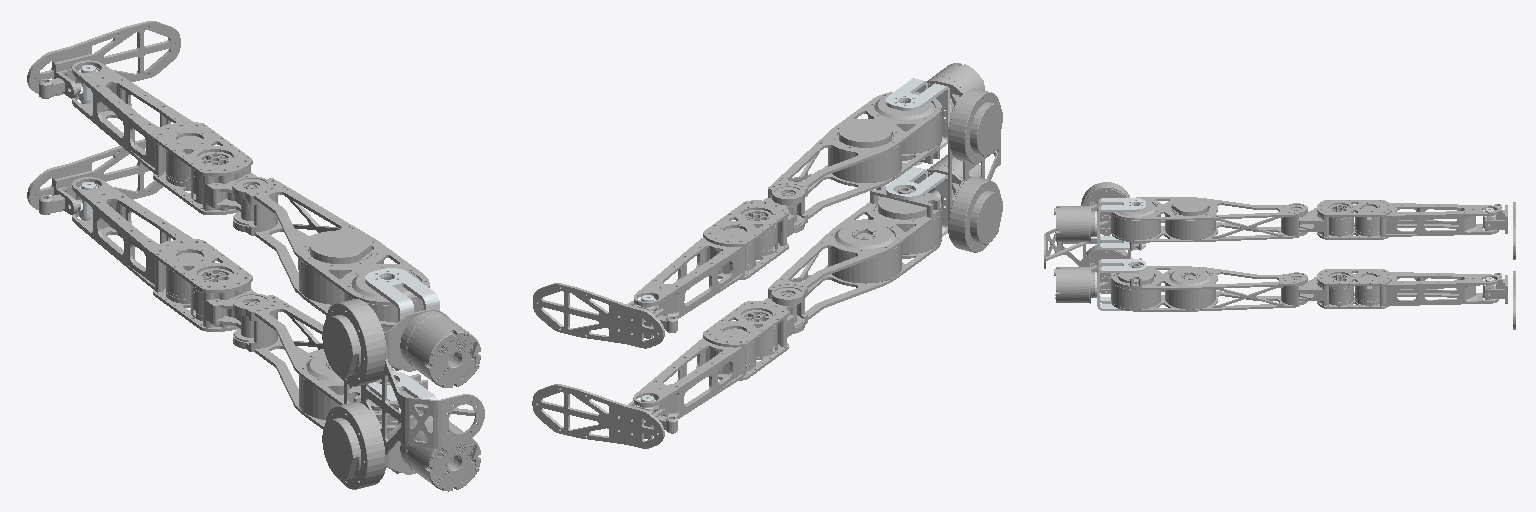
The robot description file, URDF, robot "humanoid_description":
<?xml version="1.0" encoding="utf-8"?>
<!-- This URDF was automatically created by SolidWorks to URDF Exporter! Originally created by [author] ([email redacted]) 
     Commit Version: 1.6.0-4-g7f85cfe  Build Version: 1.6.7995.38578
     For more information, please see http://wiki.ros.org/sw_urdf_exporter -->
<robot
  name="humanoid_description">
  <link
    name="chest_link">
    <inertial>
      <origin
        xyz="-8.28293679618886E-05 0.00245095349909037 -0.0400554897853038"
        rpy="0 0 0" />
      <mass
        value="3.6222448891911" />
      <inertia
        ixx="0.00927736621449688"
        ixy="5.4183285357689E-06"
        ixz="-8.1587912127408E-06"
        iyy="0.0068269139110782"
        iyz="2.81661094771366E-05"
        izz="0.00659637371781693" />
    </inertial>
    <visual>
      <origin
        xyz="0 0 0"
        rpy="0 0 0" />
      <geometry>
        <mesh
          filename="package://humanoid_description/meshes/base_link.STL" />
      </geometry>
      <material
        name="">
        <color
          rgba="0.752941176470588 0.752941176470588 0.752941176470588 1" />
      </material>
    </visual>
    <collision>
      <origin
        xyz="0 0 0"
        rpy="0 0 0" />
      <geometry>
        <mesh
          filename="package://humanoid_description/meshes/base_link.STL" />
      </geometry>
    </collision>
  </link>
  <link
    name="link1">
    <inertial>
      <origin
        xyz="-0.0728434544984589 4.19142224609348E-05 -0.116189406983065"
        rpy="0 0 0" />
      <mass
        value="4.01130857217461" />
      <inertia
        ixx="0.00549719316458641"
        ixy="2.72266840238933E-06"
        ixz="-0.000275818830944953"
        iyy="0.00344725687710746"
        iyz="-4.83377004397469E-06"
        izz="0.00309978532231872" />
    </inertial>
    <visual>
      <origin
        xyz="0 0 0"
        rpy="0 0 0" />
      <geometry>
        <mesh
          filename="package://humanoid_description/meshes/link1.STL" />
      </geometry>
      <material
        name="">
        <color
          rgba="0.752941176470588 0.752941176470588 0.752941176470588 1" />
      </material>
    </visual>
    <collision>
      <origin
        xyz="0 0 0"
        rpy="0 0 0" />
      <geometry>
        <mesh
          filename="package://humanoid_description/meshes/link1.STL" />
      </geometry>
    </collision>
  </link>
  <joint
    name="joint1"
    type="revolute">
    <origin
      xyz="0 0.111 0"
      rpy="1.5708 0 0" />
    <parent
      link="chest_link" />
    <child
      link="link1" />
    <axis
      xyz="0 0 1" />
    <limit
      lower="-3"
      upper="3"
      effort="0"
      velocity="0" />
  </joint>
  <link
    name="link2">
    <inertial>
      <origin
        xyz="0.000674554136897957 -7.98707268084842E-05 0.0611451747770943"
        rpy="0 0 0" />
      <mass
        value="1.83896451263237" />
      <inertia
        ixx="0.00130997269012774"
        ixy="-2.52148752381525E-06"
        ixz="-2.9497450008976E-05"
        iyy="0.00136283021362173"
        iyz="6.56080458221765E-06"
        izz="0.00127826257199311" />
    </inertial>
    <visual>
      <origin
        xyz="0 0 0"
        rpy="0 0 0" />
      <geometry>
        <mesh
          filename="package://humanoid_description/meshes/link2.STL" />
      </geometry>
      <material
        name="">
        <color
          rgba="0.752941176470588 0.752941176470588 0.752941176470588 1" />
      </material>
    </visual>
    <collision>
      <origin
        xyz="0 0 0"
        rpy="0 0 0" />
      <geometry>
        <mesh
          filename="package://humanoid_description/meshes/link2.STL" />
      </geometry>
    </collision>
  </link>
  <joint
    name="joint2"
    type="revolute">
    <origin
      xyz="0 0.065 -0.12"
      rpy="0 0 0" />
    <parent
      link="link1" />
    <child
      link="link2" />
    <axis
      xyz="1 0 0" />
    <limit
      lower="-3"
      upper="3"
      effort="0"
      velocity="0" />
  </joint>
  <link
    name="link3">
    <inertial>
      <origin
        xyz="0.00146790465106376 0.00300000000000006 0.0135654067812014"
        rpy="0 0 0" />
      <mass
        value="0.138996037602082" />
      <inertia
        ixx="0.000167643562788158"
        ixy="1.47057028258303E-19"
        ixz="-8.86208732105541E-06"
        iyy="0.000299255663714549"
        iyz="-1.90919704350535E-20"
        izz="0.00021142987879861" />
    </inertial>
    <visual>
      <origin
        xyz="0 0 0"
        rpy="0 0 0" />
      <geometry>
        <mesh
          filename="package://humanoid_description/meshes/link3.STL" />
      </geometry>
      <material
        name="">
        <color
          rgba="0.898039215686275 0.917647058823529 0.929411764705882 1" />
      </material>
    </visual>
    <collision>
      <origin
        xyz="0 0 0"
        rpy="0 0 0" />
      <geometry>
        <mesh
          filename="package://humanoid_description/meshes/link3.STL" />
      </geometry>
    </collision>
  </link>
  <joint
    name="joint3"
    type="revolute">
    <origin
      xyz="0 0 0"
      rpy="3.1416 0 1.5708" />
    <parent
      link="link2" />
    <child
      link="link3" />
    <axis
      xyz="0 0 1" />
    <limit
      lower="-3"
      upper="3"
      effort="0"
      velocity="0" />
  </joint>
  <link
    name="link4">
    <inertial>
      <origin
        xyz="0.068079854468498 -0.00841217862527573 -0.000217594704341859"
        rpy="0 0 0" />
      <mass
        value="6.77292310387962" />
      <inertia
        ixx="0.0053553058691625"
        ixy="3.63771461334271E-06"
        ixz="7.70199358196544E-05"
        iyy="0.00895648949029985"
        iyz="-2.80338942122995E-06"
        izz="0.00681492065848877" />
    </inertial>
    <visual>
      <origin
        xyz="0 0 0"
        rpy="0 0 0" />
      <geometry>
        <mesh
          filename="package://humanoid_description/meshes/link4.STL" />
      </geometry>
      <material
        name="">
        <color
          rgba="0.752941176470588 0.752941176470588 0.752941176470588 1" />
      </material>
    </visual>
    <collision>
      <origin
        xyz="0 0 0"
        rpy="0 0 0" />
      <geometry>
        <mesh
          filename="package://humanoid_description/meshes/link4.STL" />
      </geometry>
    </collision>
  </link>
  <joint
    name="joint4"
    type="revolute">
    <origin
      xyz="0 0.003 0.05"
      rpy="1.5667 -1.5708 0" />
    <parent
      link="link3" />
    <child
      link="link4" />
    <axis
      xyz="0 0.99999 -0.0041068" />
    <limit
      lower="-3"
      upper="3"
      effort="0"
      velocity="0" />
  </joint>
  <link
    name="link5">
    <inertial>
      <origin
        xyz="0.160102551038823 0.000457350145105207 -0.00865375901396317"
        rpy="0 0 0" />
      <mass
        value="0.656738353244321" />
      <inertia
        ixx="0.000233874118922673"
        ixy="3.53165224336002E-06"
        ixz="2.16391215308251E-09"
        iyy="0.00174493115545611"
        iyz="8.70897215953489E-09"
        izz="0.00193811132241233" />
    </inertial>
    <visual>
      <origin
        xyz="0 0 0"
        rpy="0 0 0" />
      <geometry>
        <mesh
          filename="package://humanoid_description/meshes/link5.STL" />
      </geometry>
      <material
        name="">
        <color
          rgba="0.752941176470588 0.752941176470588 0.752941176470588 1" />
      </material>
    </visual>
    <collision>
      <origin
        xyz="0 0 0"
        rpy="0 0 0" />
      <geometry>
        <mesh
          filename="package://humanoid_description/meshes/link5.STL" />
      </geometry>
    </collision>
  </link>
  <joint
    name="joint5"
    type="revolute">
    <origin
      xyz="0.317 0 0"
      rpy="-1.5749 0 0" />
    <parent
      link="link4" />
    <child
      link="link5" />
    <axis
      xyz="0 0 1" />
    <limit
      lower="-3"
      upper="3"
      effort="0"
      velocity="0" />
  </joint>
  <link
    name="link6">
    <inertial>
      <origin
        xyz="3.69282989604036E-10 -2.58542243170012E-09 0.00865001083659624"
        rpy="0 0 0" />
      <mass
        value="0.0405476705231489" />
      <inertia
        ixx="7.90323317140378E-06"
        ixy="3.64342320493557E-15"
        ixz="1.7843211279735E-12"
        iyy="7.51103795693389E-06"
        iyz="4.94677657785183E-13"
        izz="3.56410737465162E-06" />
    </inertial>
    <visual>
      <origin
        xyz="0 0 0"
        rpy="0 0 0" />
      <geometry>
        <mesh
          filename="package://humanoid_description/meshes/link6.STL" />
      </geometry>
      <material
        name="">
        <color
          rgba="0.898039215686275 0.917647058823529 0.929411764705882 1" />
      </material>
    </visual>
    <collision>
      <origin
        xyz="0 0 0"
        rpy="0 0 0" />
      <geometry>
        <mesh
          filename="package://humanoid_description/meshes/link6.STL" />
      </geometry>
    </collision>
  </link>
  <joint
    name="joint6"
    type="revolute">
    <origin
      xyz="0.373 0 0"
      rpy="-3.1416 0 1.5708" />
    <parent
      link="link5" />
    <child
      link="link6" />
    <axis
      xyz="0 0 1" />
    <limit
      lower="-3"
      upper="3"
      effort="0"
      velocity="0" />
  </joint>
  <link
    name="link7">
    <inertial>
      <origin
        xyz="0.0199754227606495 0.00864999999990936 -0.0354657161472895"
        rpy="0 0 0" />
      <mass
        value="0.144339298666143" />
      <inertia
        ixx="4.01687098929373E-05"
        ixy="2.54118580061172E-18"
        ixz="-3.79536043980265E-06"
        iyy="0.000258843457882055"
        iyz="-5.84163087956415E-20"
        izz="0.000282296824497863" />
    </inertial>
    <visual>
      <origin
        xyz="0 0 0"
        rpy="0 0 0" />
      <geometry>
        <mesh
          filename="package://humanoid_description/meshes/link7.STL" />
      </geometry>
      <material
        name="">
        <color
          rgba="0.752941176470588 0.752941176470588 0.752941176470588 1" />
      </material>
    </visual>
    <collision>
      <origin
        xyz="0 0 0"
        rpy="0 0 0" />
      <geometry>
        <mesh
          filename="package://humanoid_description/meshes/link7.STL" />
      </geometry>
    </collision>
  </link>
  <joint
    name="joint7"
    type="revolute">
    <origin
      xyz="0 0 0"
      rpy="1.5708 0 0" />
    <parent
      link="link6" />
    <child
      link="link7" />
    <axis
      xyz="1 0 0" />
    <limit
      lower="-3"
      upper="3"
      effort="0"
      velocity="0" />
  </joint>
  <link
    name="link8">
    <inertial>
      <origin
        xyz="0.000674554136897979 -7.98707268086368E-05 0.0611451747770972"
        rpy="0 0 0" />
      <mass
        value="1.83896451263238" />
      <inertia
        ixx="0.00130997269012774"
        ixy="-2.521487523817E-06"
        ixz="-2.94974500089755E-05"
        iyy="0.00136283021362174"
        iyz="6.56080458221212E-06"
        izz="0.00127826257199312" />
    </inertial>
    <visual>
      <origin
        xyz="0 0 0"
        rpy="0 0 0" />
      <geometry>
        <mesh
          filename="package://humanoid_description/meshes/link8.STL" />
      </geometry>
      <material
        name="">
        <color
          rgba="0.752941176470588 0.752941176470588 0.752941176470588 1" />
      </material>
    </visual>
    <collision>
      <origin
        xyz="0 0 0"
        rpy="0 0 0" />
      <geometry>
        <mesh
          filename="package://humanoid_description/meshes/link8.STL" />
      </geometry>
    </collision>
  </link>
  <joint
    name="joint8"
    type="revolute">
    <origin
      xyz="0 -0.065 -0.12"
      rpy="0 0 0" />
    <parent
      link="link1" />
    <child
      link="link8" />
    <axis
      xyz="1 0 0" />
    <limit
      lower="-3"
      upper="3"
      effort="0"
      velocity="0" />
  </joint>
  <link
    name="link9">
    <inertial>
      <origin
        xyz="0.00146790465106367 -0.00300000000000037 0.0135654067811973"
        rpy="0 0 0" />
      <mass
        value="0.138996037602082" />
      <inertia
        ixx="0.000167643562788158"
        ixy="1.19046518291902E-19"
        ixz="-8.8620873210554E-06"
        iyy="0.000299255663714548"
        iyz="-1.59095887874616E-20"
        izz="0.000211429878798609" />
    </inertial>
    <visual>
      <origin
        xyz="0 0 0"
        rpy="0 0 0" />
      <geometry>
        <mesh
          filename="package://humanoid_description/meshes/link9.STL" />
      </geometry>
      <material
        name="">
        <color
          rgba="0.898039215686275 0.917647058823529 0.929411764705882 1" />
      </material>
    </visual>
    <collision>
      <origin
        xyz="0 0 0"
        rpy="0 0 0" />
      <geometry>
        <mesh
          filename="package://humanoid_description/meshes/link9.STL" />
      </geometry>
    </collision>
  </link>
  <joint
    name="joint9"
    type="revolute">
    <origin
      xyz="0 0 0"
      rpy="3.1416 0 -1.5708" />
    <parent
      link="link8" />
    <child
      link="link9" />
    <axis
      xyz="0 0 1" />
    <limit
      lower="-3"
      upper="3"
      effort="0"
      velocity="0" />
  </joint>
  <link
    name="link10">
    <inertial>
      <origin
        xyz="0.0679580308029274 0.0084112140687064 -0.000977595595389468"
        rpy="0 0 0" />
      <mass
        value="6.77292310387962" />
      <inertia
        ixx="0.0053582396642984"
        ixy="3.93464481434201E-06"
        ixz="8.74297913019507E-05"
        iyy="0.00895647639661024"
        iyz="1.40455649327707E-06"
        izz="0.00681199995704249" />
    </inertial>
    <visual>
      <origin
        xyz="0 0 0"
        rpy="0 0 0" />
      <geometry>
        <mesh
          filename="package://humanoid_description/meshes/link10.STL" />
      </geometry>
      <material
        name="">
        <color
          rgba="0.752941176470588 0.752941176470588 0.752941176470588 1" />
      </material>
    </visual>
    <collision>
      <origin
        xyz="0 0 0"
        rpy="0 0 0" />
      <geometry>
        <mesh
          filename="package://humanoid_description/meshes/link10.STL" />
      </geometry>
    </collision>
  </link>
  <joint
    name="joint10"
    type="revolute">
    <origin
      xyz="0 -0.003 0.05"
      rpy="3.1416 -1.5605 1.5708" />
    <parent
      link="link9" />
    <child
      link="link10" />
    <axis
      xyz="0 1 0" />
    <limit
      lower="-3"
      upper="3"
      effort="0"
      velocity="0" />
  </joint>
  <link
    name="link11">
    <inertial>
      <origin
        xyz="0.160102551038827 0.000457350145114362 0.0086462409860318"
        rpy="0 0 0" />
      <mass
        value="0.656738353244321" />
      <inertia
        ixx="0.000233874118922674"
        ixy="3.53165224327244E-06"
        ixz="2.16391215324514E-09"
        iyy="0.00174493115545611"
        iyz="8.70897215959495E-09"
        izz="0.00193811132241233" />
    </inertial>
    <visual>
      <origin
        xyz="0 0 0"
        rpy="0 0 0" />
      <geometry>
        <mesh
          filename="package://humanoid_description/meshes/link11.STL" />
      </geometry>
      <material
        name="">
        <color
          rgba="0.752941176470588 0.752941176470588 0.752941176470588 1" />
      </material>
    </visual>
    <collision>
      <origin
        xyz="0 0 0"
        rpy="0 0 0" />
      <geometry>
        <mesh
          filename="package://humanoid_description/meshes/link11.STL" />
      </geometry>
    </collision>
  </link>
  <joint
    name="joint11"
    type="revolute">
    <origin
      xyz="0.31698 0 -0.0032702"
      rpy="-1.5708 0.010316 0" />
    <parent
      link="link10" />
    <child
      link="link11" />
    <axis
      xyz="0 0 1" />
    <limit
      lower="-3"
      upper="3"
      effort="0"
      velocity="0" />
  </joint>
  <link
    name="link12">
    <inertial>
      <origin
        xyz="3.69283013022803E-10 -2.58542354192315E-09 -0.00864998916340047"
        rpy="0 0 0" />
      <mass
        value="0.040547670523149" />
      <inertia
        ixx="7.90323317140379E-06"
        ixy="3.64341020522476E-15"
        ixz="1.78432113059311E-12"
        iyy="7.5110379569339E-06"
        iyz="4.94677657458429E-13"
        izz="3.56410737465161E-06" />
    </inertial>
    <visual>
      <origin
        xyz="0 0 0"
        rpy="0 0 0" />
      <geometry>
        <mesh
          filename="package://humanoid_description/meshes/link12.STL" />
      </geometry>
      <material
        name="">
        <color
          rgba="0.898039215686275 0.917647058823529 0.929411764705882 1" />
      </material>
    </visual>
    <collision>
      <origin
        xyz="0 0 0"
        rpy="0 0 0" />
      <geometry>
        <mesh
          filename="package://humanoid_description/meshes/link12.STL" />
      </geometry>
    </collision>
  </link>
  <joint
    name="joint12"
    type="revolute">
    <origin
      xyz="0.373 0 0"
      rpy="-3.1416 0 1.5708" />
    <parent
      link="link11" />
    <child
      link="link12" />
    <axis
      xyz="0 0 1" />
    <limit
      lower="-3"
      upper="3"
      effort="0"
      velocity="0" />
  </joint>
  <link
    name="link13">
    <inertial>
      <origin
        xyz="0.0199754227606124 -0.00865000000005162 -0.0354657161472758"
        rpy="0 0 0" />
      <mass
        value="0.144339298666143" />
      <inertia
        ixx="4.01687098929373E-05"
        ixy="2.45617541501818E-18"
        ixz="-3.79536043980261E-06"
        iyy="0.000258843457882055"
        iyz="-6.30931755640207E-20"
        izz="0.000282296824497863" />
    </inertial>
    <visual>
      <origin
        xyz="0 0 0"
        rpy="0 0 0" />
      <geometry>
        <mesh
          filename="package://humanoid_description/meshes/link13.STL" />
      </geometry>
      <material
        name="">
        <color
          rgba="0.752941176470588 0.752941176470588 0.752941176470588 1" />
      </material>
    </visual>
    <collision>
      <origin
        xyz="0 0 0"
        rpy="0 0 0" />
      <geometry>
        <mesh
          filename="package://humanoid_description/meshes/link13.STL" />
      </geometry>
    </collision>
  </link>
  <joint
    name="joint13"
    type="revolute">
    <origin
      xyz="0 0 0"
      rpy="1.5708 0 0" />
    <parent
      link="link12" />
    <child
      link="link13" />
    <axis
      xyz="1 0 0" />
    <limit
      lower="-3"
      upper="3"
      effort="0"
      velocity="0" />
  </joint>
</robot>

--- Render facts (derived) ---
3 views of the same robot in one strip: view 1: azimuth 30°, elevation 25°; view 2: azimuth 150°, elevation 25°; view 3: azimuth 270°, elevation 25° (orthographic).
Model humanoid_description with 14 links and 13 joints (13 revolute), rooted at chest_link, posed all joints at 0.
Links seen in each view (by area): view 1: link1, link11, link5, link4, link10, link2, link7, link13, link8, link3, link9; view 2: link10, link4, link5, link11, link1, link7, link13, link3, link9, link2, link8; view 3: link10, link4, link11, link5, link1, link2, link8, link3, link9, link7, link13.
Link boxes in pixels (x1=…): link1: x1=322, y1=299, x2=484, y2=489; link11: x1=72, y1=177, x2=259, y2=337; link5: x1=72, y1=60, x2=259, y2=220; link4: x1=232, y1=176, x2=429, y2=331; link10: x1=233, y1=293, x2=427, y2=433; link2: x1=380, y1=309, x2=480, y2=387; link7: x1=27, y1=21, x2=180, y2=98; link13: x1=27, y1=139, x2=163, y2=214; link8: x1=380, y1=413, x2=480, y2=491; link3: x1=365, y1=268, x2=439, y2=370; link9: x1=368, y1=371, x2=437, y2=473; link10: x1=768, y1=186, x2=941, y2=333; link4: x1=768, y1=92, x2=941, y2=232; link5: x1=634, y1=192, x2=797, y2=318; link11: x1=633, y1=292, x2=796, y2=418; link1: x1=948, y1=88, x2=1002, y2=252; link7: x1=533, y1=283, x2=677, y2=348; link13: x1=532, y1=384, x2=677, y2=448; link3: x1=886, y1=78, x2=951, y2=165; link9: x1=886, y1=167, x2=947, y2=236; link2: x1=927, y1=63, x2=984, y2=115; link8: x1=927, y1=155, x2=985, y2=203; link10: x1=1111, y1=258, x2=1307, y2=311; link4: x1=1111, y1=197, x2=1307, y2=250; link11: x1=1292, y1=269, x2=1498, y2=308; link5: x1=1292, y1=200, x2=1498, y2=239; link1: x1=1044, y1=182, x2=1130, y2=293; link2: x1=1054, y1=202, x2=1110, y2=242; link8: x1=1054, y1=263, x2=1110, y2=303; link3: x1=1095, y1=198, x2=1145, y2=249; link9: x1=1095, y1=259, x2=1145, y2=310; link7: x1=1484, y1=202, x2=1515, y2=259; link13: x1=1484, y1=271, x2=1515, y2=329.
Bounding box of the posed robot: 0.2462 × 0.91 × 0.228 m (x, y, z).
Meshes: 14 distinct files referenced, 13 mesh visuals loaded (13 binary STL); not drawn: 1 (reference not matched to a file when rendering).